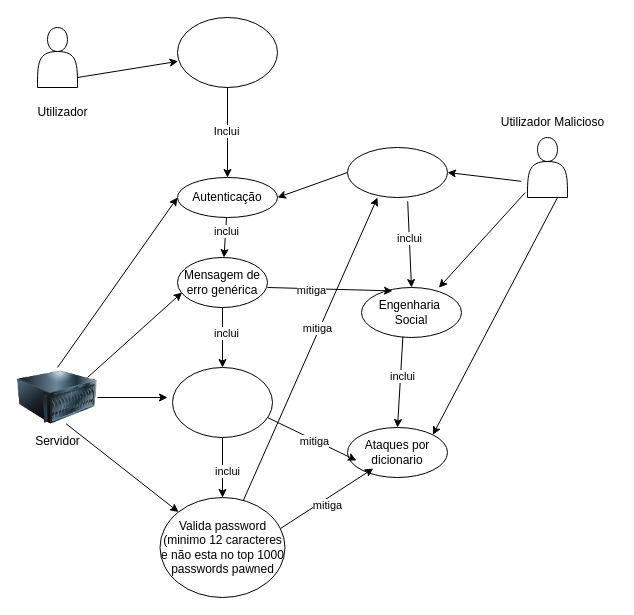
Some shapes in this 634 by 615 pixel diagram are drawn without their labels. Here are the shapes that lost their labels. From the top down, the centre of each, then its label:
[227,52]: Utilizador introduz email e palavra passe
[397,172]: Ataque força bruta
[222,402]: Bloqueia conta após 10 tentativas falhadas
